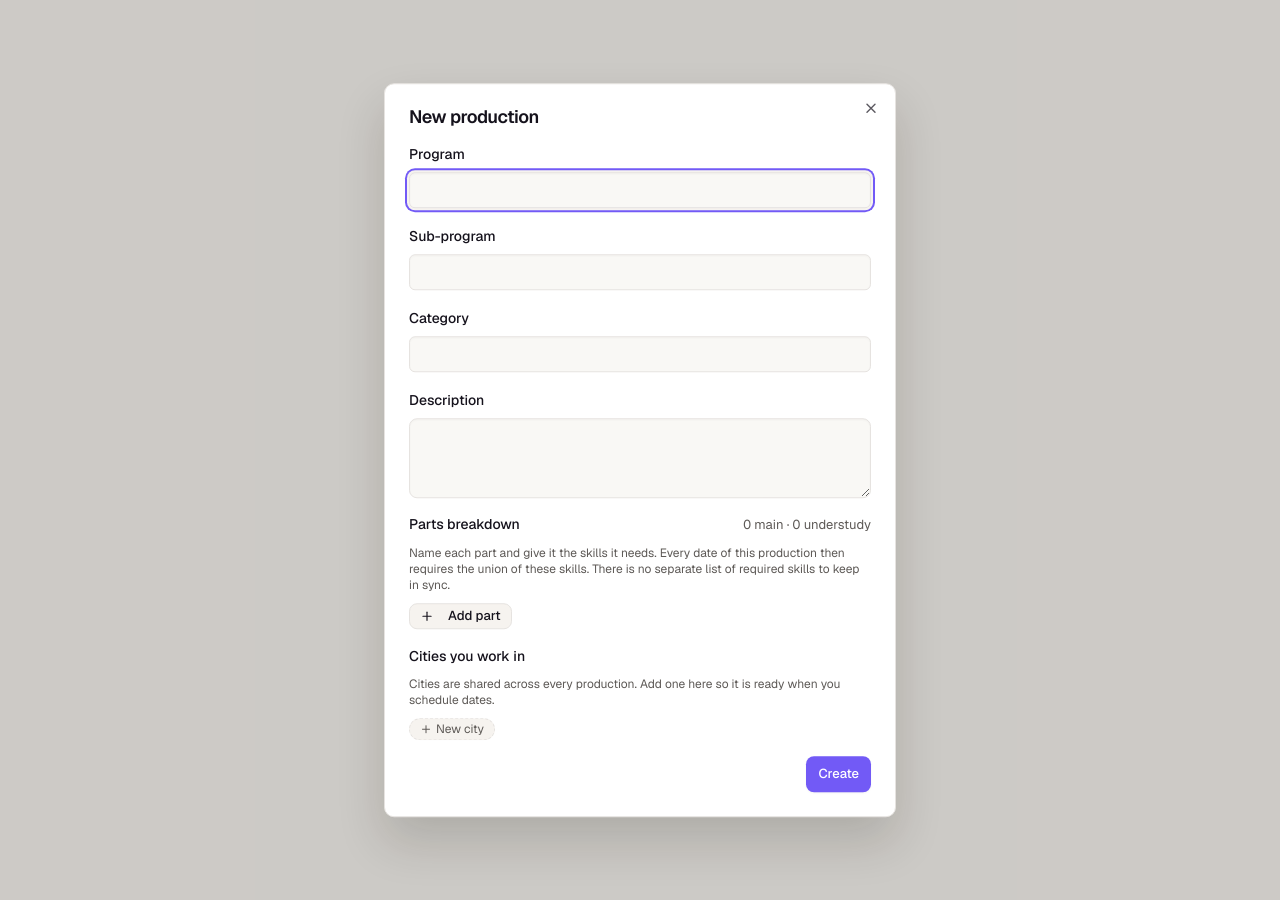
Scenario: ShowFormDialog › shows a computed callout listing the union of all slot skills
The image size is (1280, 900).
Click the button "Add part" at (460, 616), box [409, 603, 512, 629]
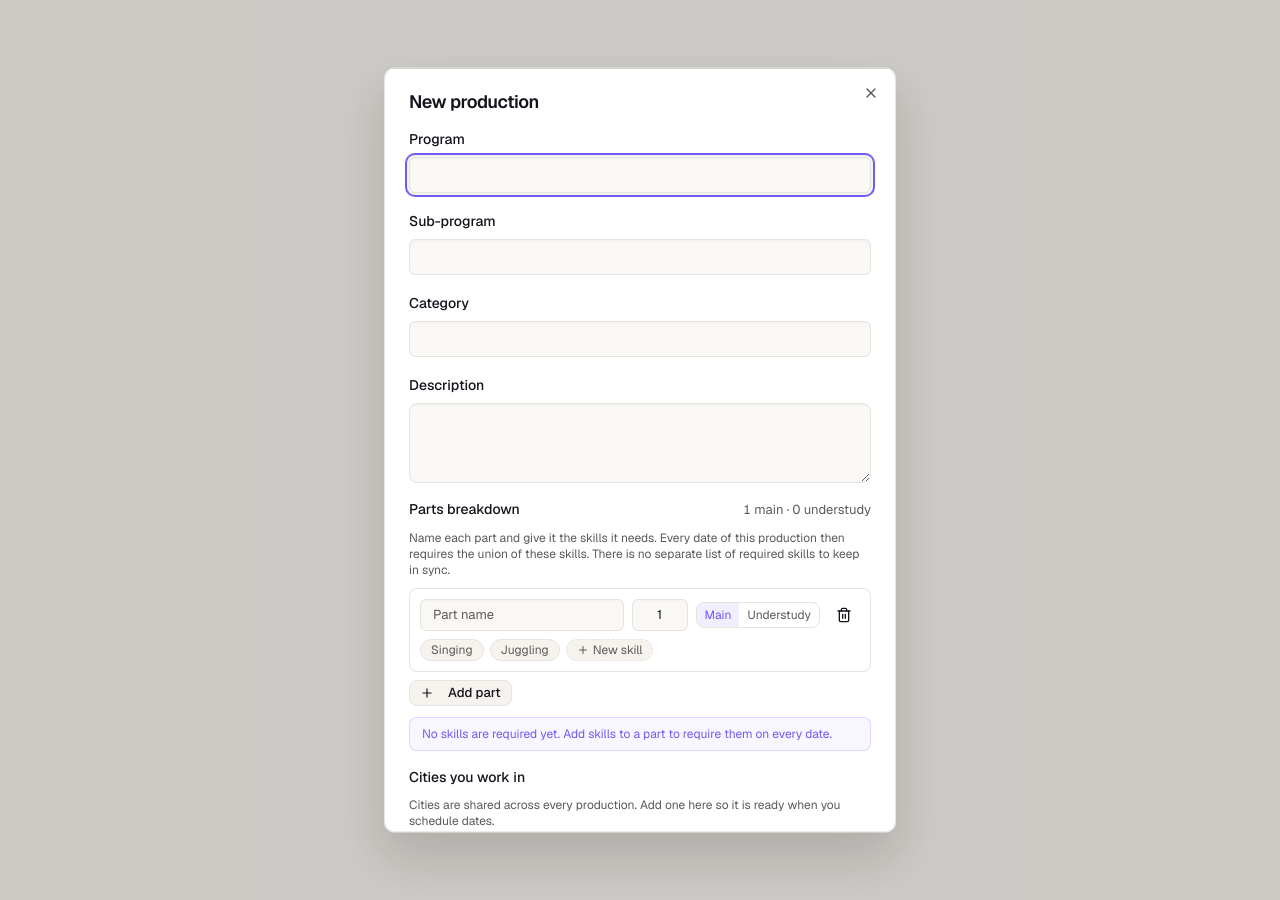
Click the button "Singing" at (452, 649), box [420, 638, 484, 660]
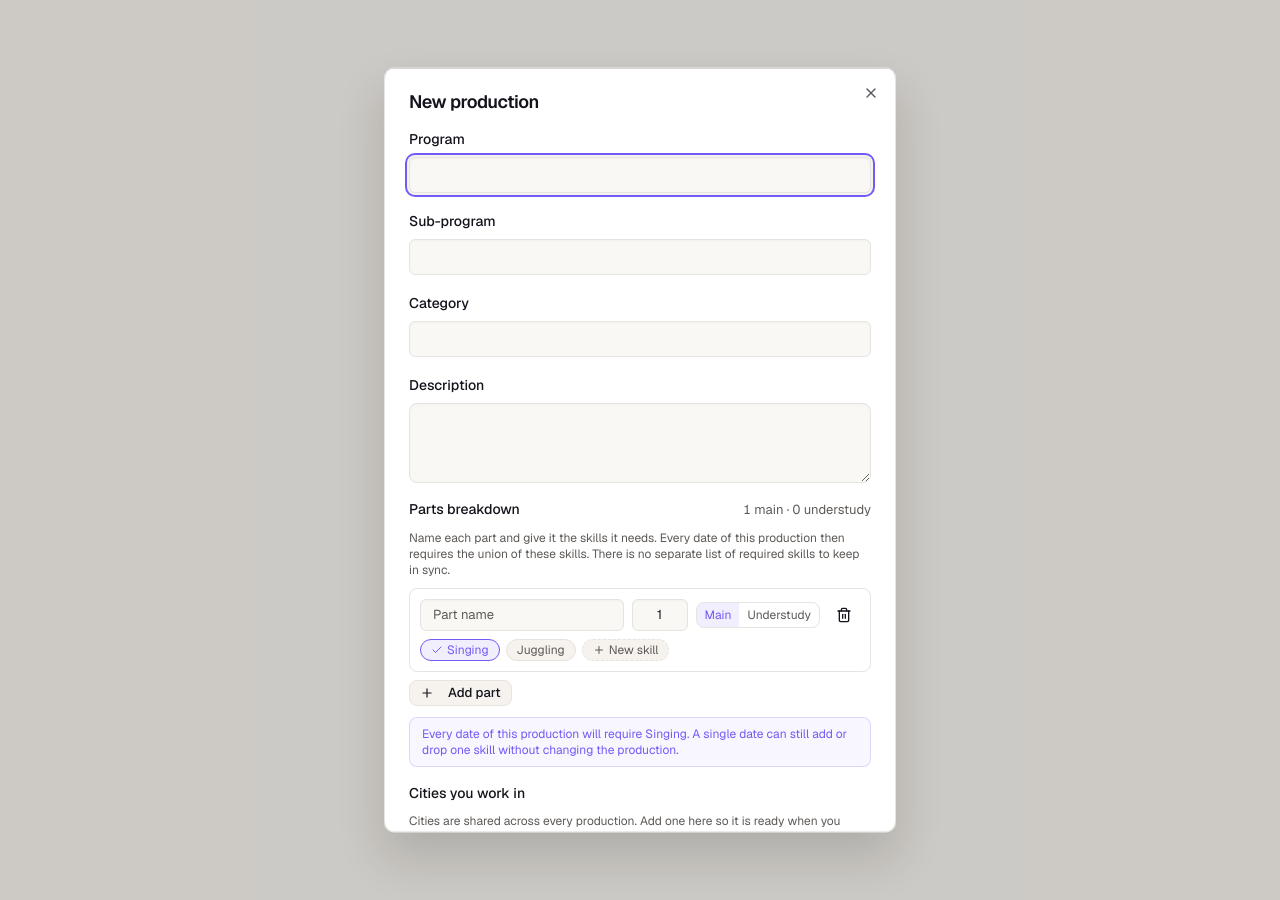
Result: the text "Every date of this production will require Singing." is shown at [422, 725, 847, 757]
